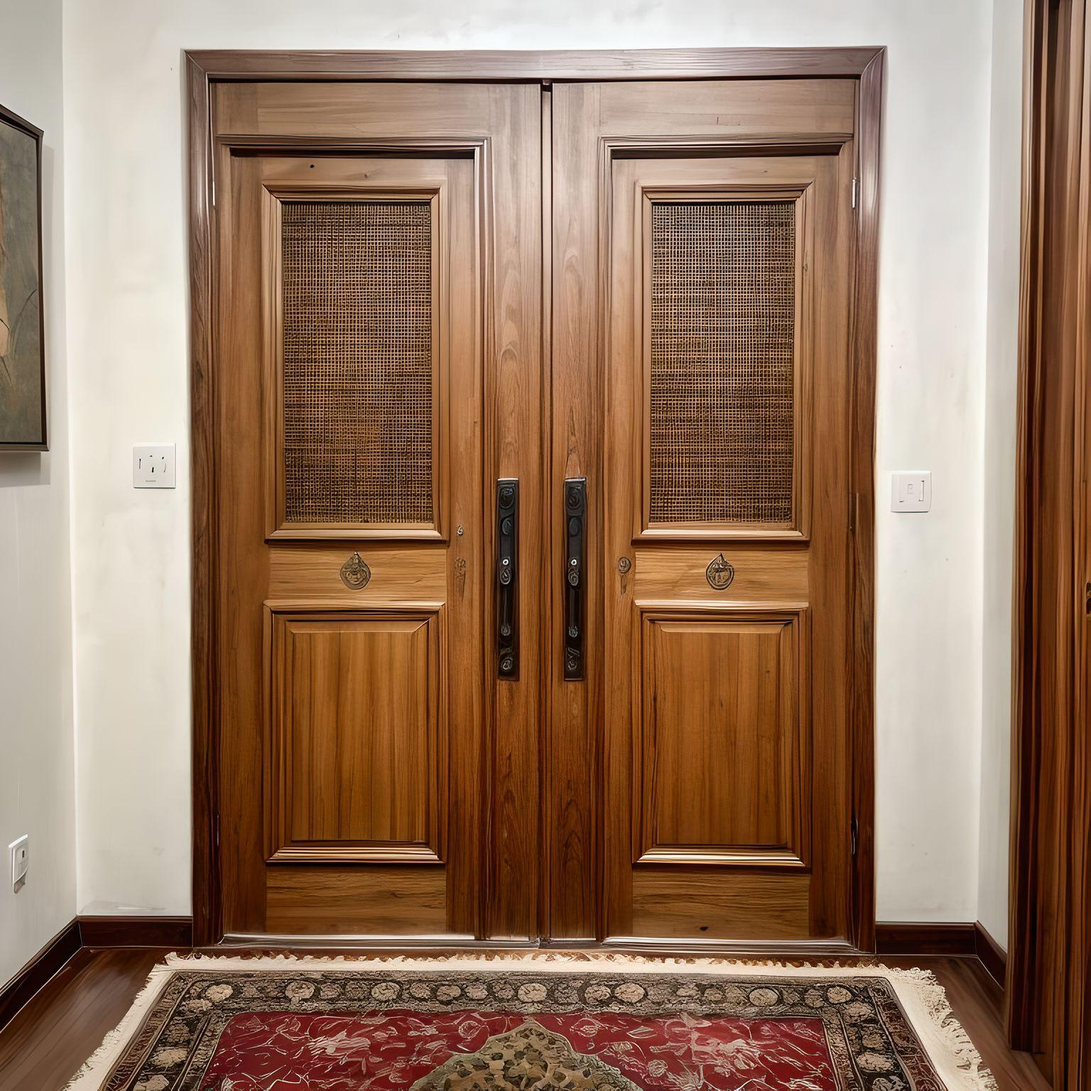door: (208, 81, 540, 949), (555, 65, 862, 954)
switchboard: (893, 466, 942, 519), (133, 440, 180, 492), (9, 829, 36, 895)
